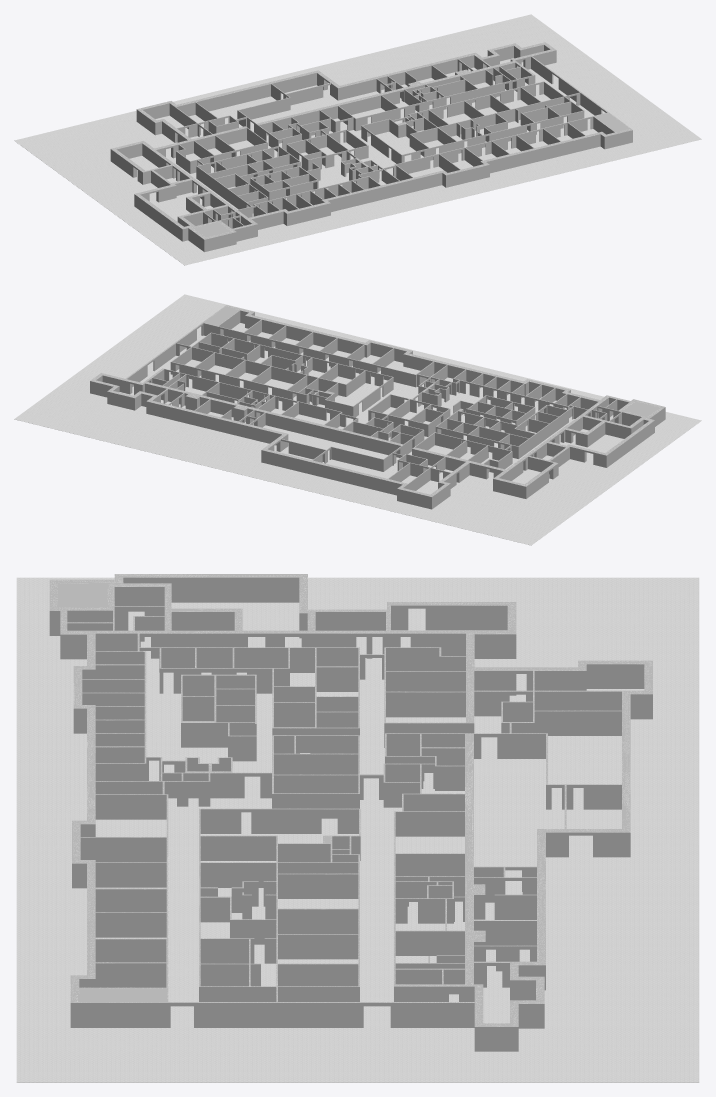
File: Thayer1stFloor3dV8.dae
The picture shows the model from 3 angles, top to bottom: view 1: azimuth 30°, elevation 25°; view 2: azimuth 150°, elevation 25°; view 3: azimuth 270°, elevation 25°; orthographic projection. The views are drawn at different scales.
Parts seen in each view (by area): view 1: SketchUp (×4); view 2: SketchUp (×4); view 3: SketchUp (×5).
Part boxes in pixels (<box>): SketchUp (×4): <box>14,14,701,265</box>; SketchUp (×4): <box>14,294,701,545</box>; SketchUp (×5): <box>16,574,699,1082</box>.
Size of the model in its own units: 4200 by 2400 by 99.98.
